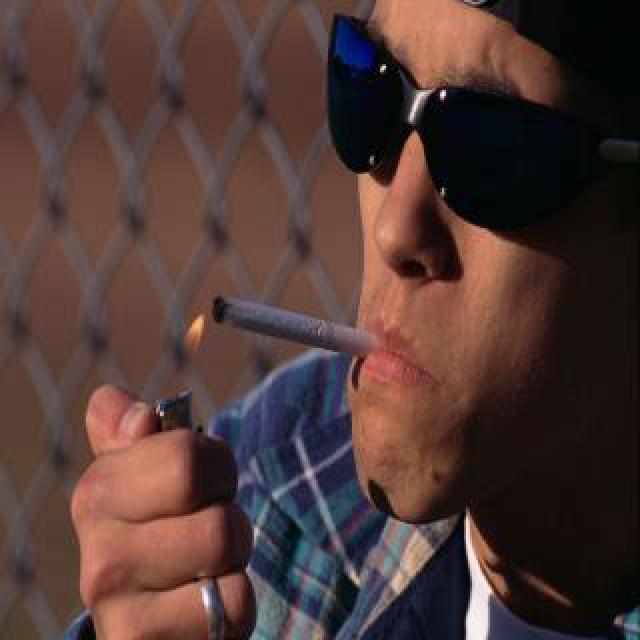Fire: (174, 300, 218, 382)
